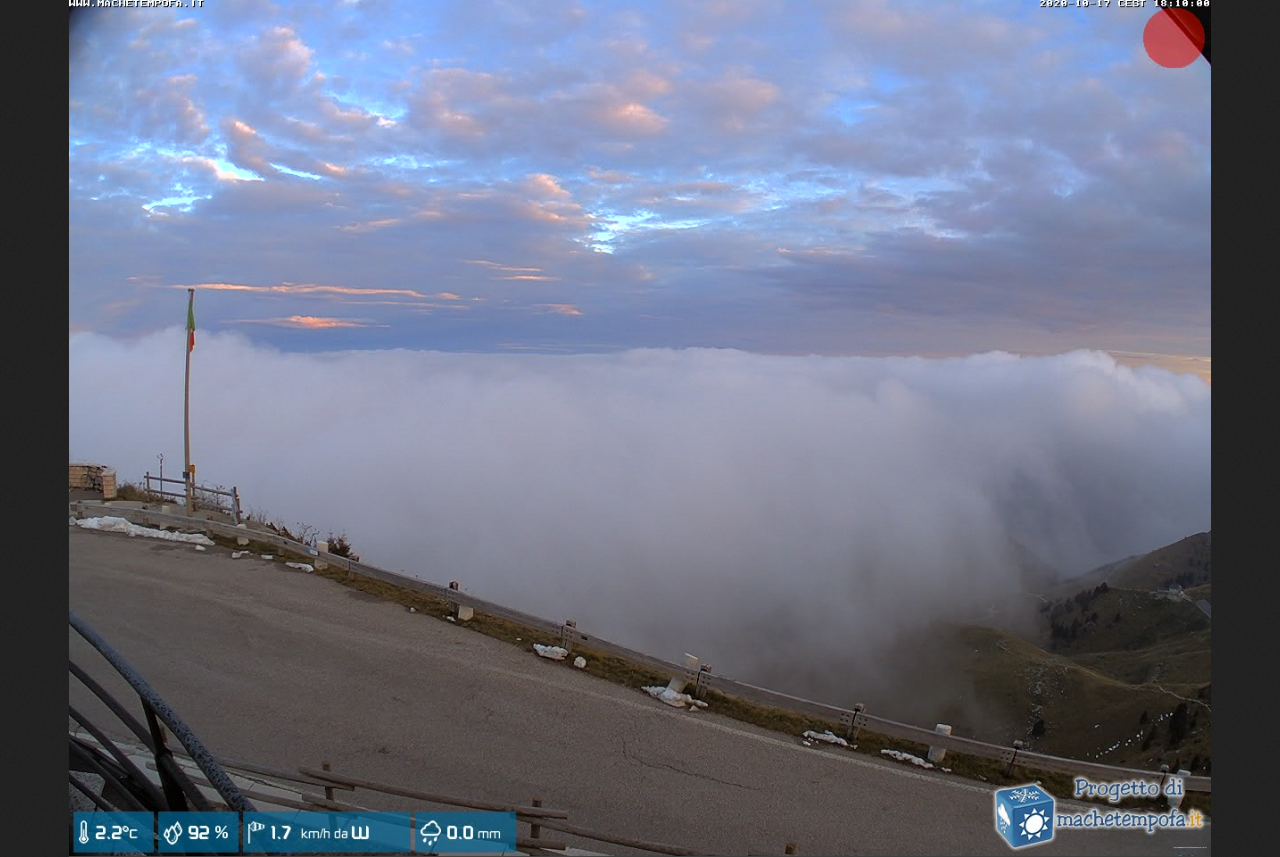no: (184, 299, 196, 346)
